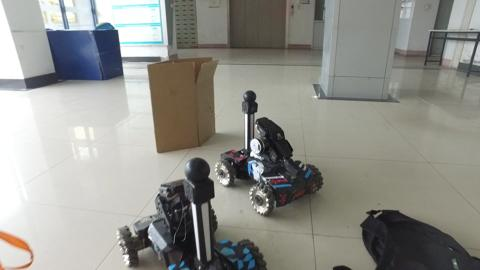box: (142, 53, 216, 148)
chariot: (117, 157, 263, 270), (210, 87, 328, 215)
